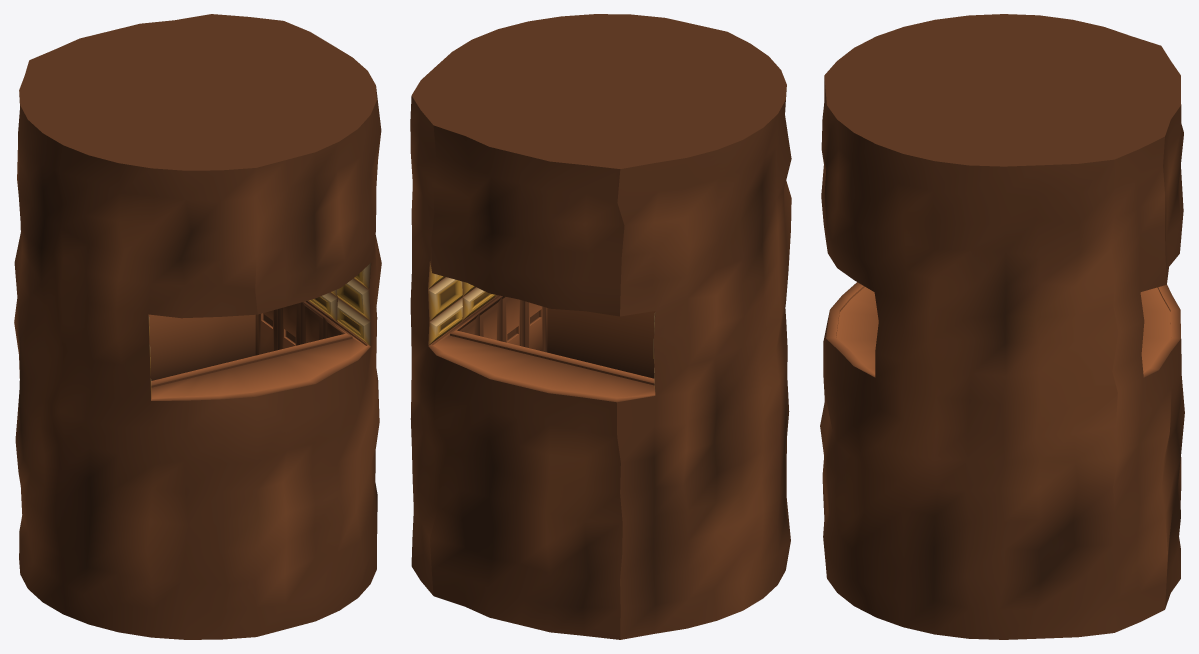
File: LargeTreeMiddle2.fbx
3 renders of one model, left to right at view 1: azimuth 30°, elevation 25°; view 2: azimuth 150°, elevation 25°; view 3: azimuth 270°, elevation 25°, orthographic.
Visible parts, largest first — view 1: TreeMiddle2; view 2: TreeMiddle2; view 3: TreeMiddle2.
Boxes of the visible parts, x1=… form: TreeMiddle2: x1=14, y1=14, x2=381, y2=639; TreeMiddle2: x1=410, y1=14, x2=791, y2=639; TreeMiddle2: x1=820, y1=14, x2=1184, y2=639.
Size of the model in its own units: 838 by 1189 by 830.
